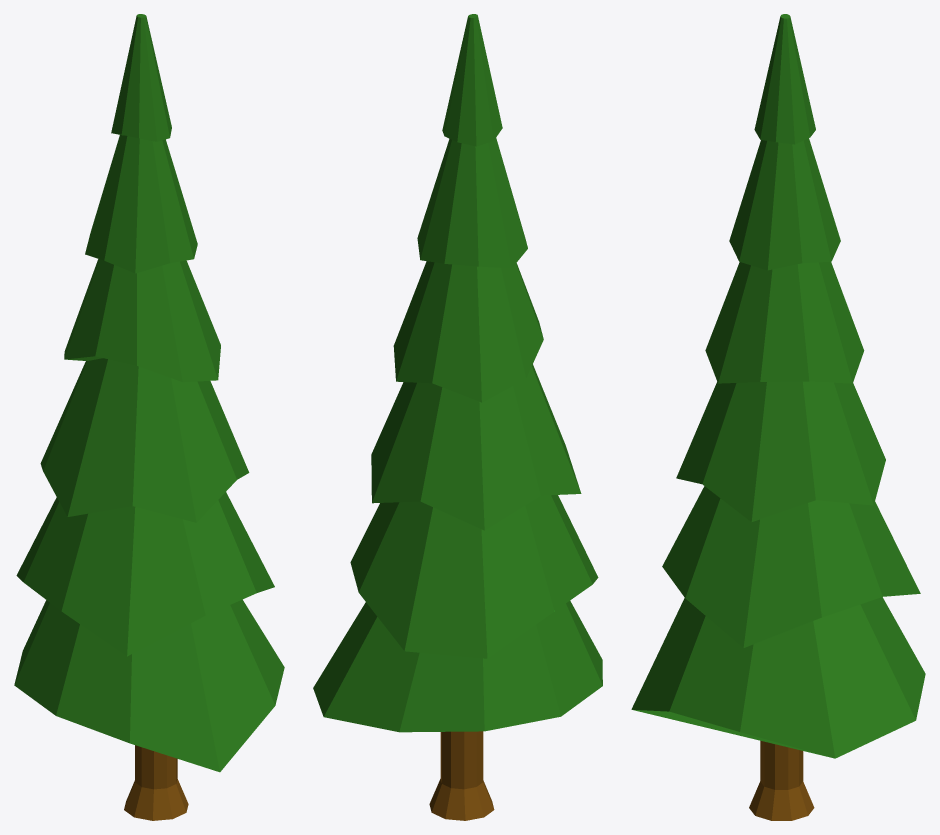
The model's file is Low_Poly_Tree.fbx.
3 views of the same model, side by side, from view 1: azimuth 30°, elevation 25°; view 2: azimuth 150°, elevation 25°; view 3: azimuth 270°, elevation 25° (orthographic).
Visible parts, largest first — view 1: Cylinder; view 2: Cylinder; view 3: Cylinder.
Boxes of the visible parts, box(x1,y1,x2,y2) form: Cylinder: box(14, 14, 284, 820); Cylinder: box(313, 14, 602, 820); Cylinder: box(631, 14, 925, 820).
Bounding box in the file's own units: 1094 × 3431 × 1165.
